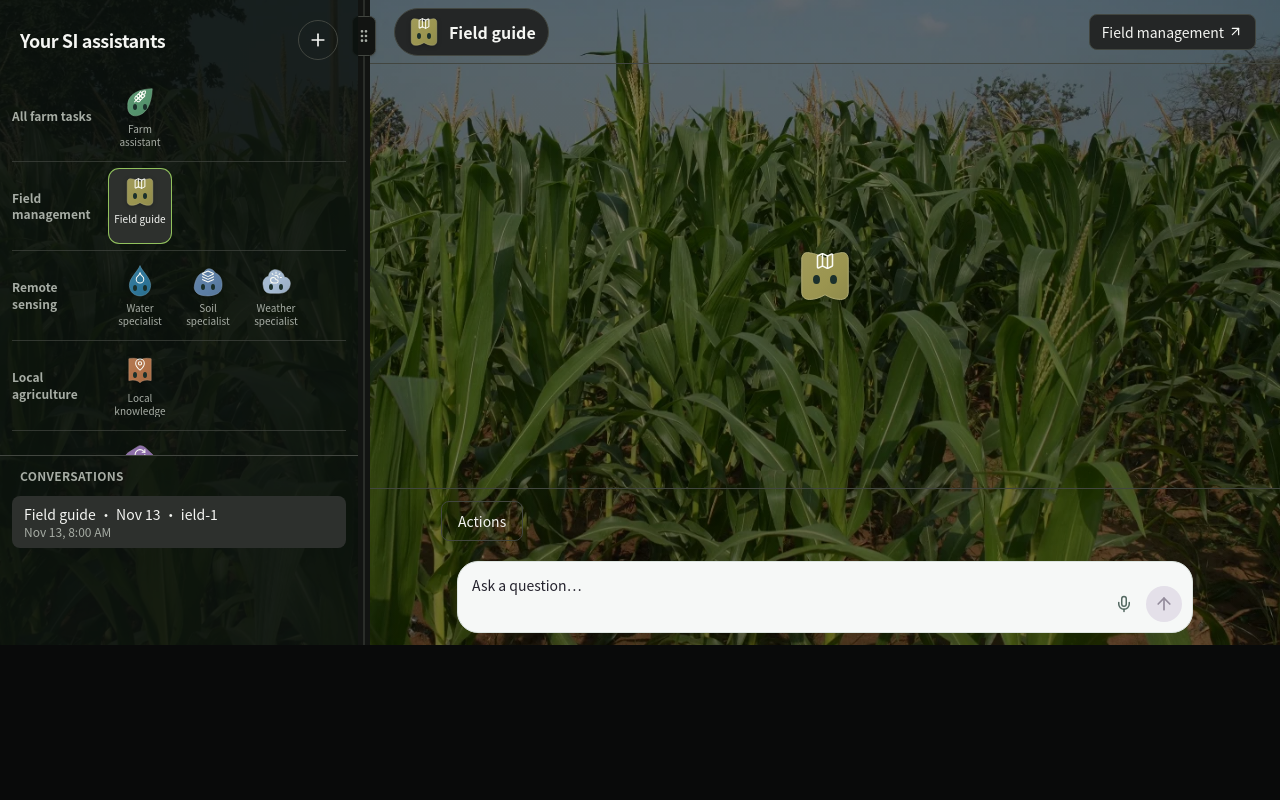
Test case: restores an existing conversation and submits its message to that conversation
Type "How is my field?" into the text box named "Message Field guide".
click(785, 598); type("How is my field?")  # box [472,574,1098,622]
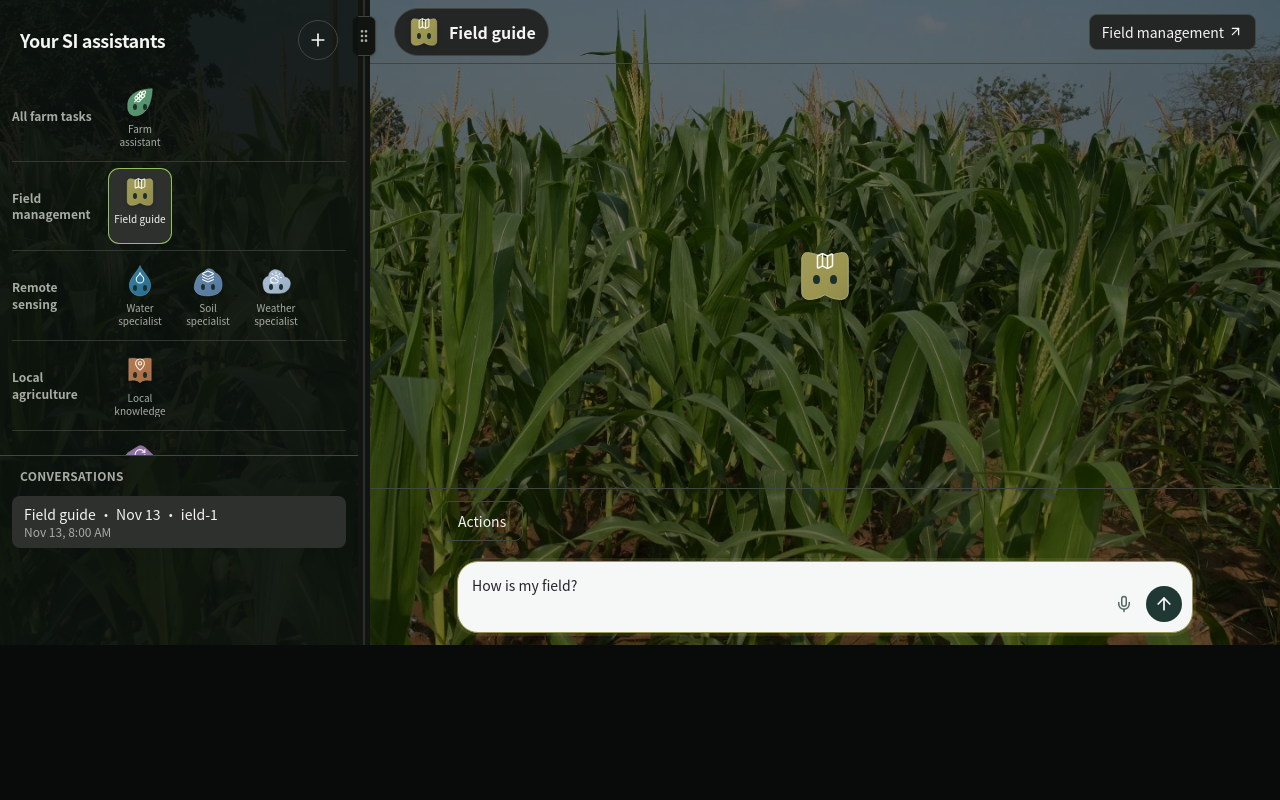
Click the button named "Send message".
click(1164, 604)  # box [1146,586,1182,622]
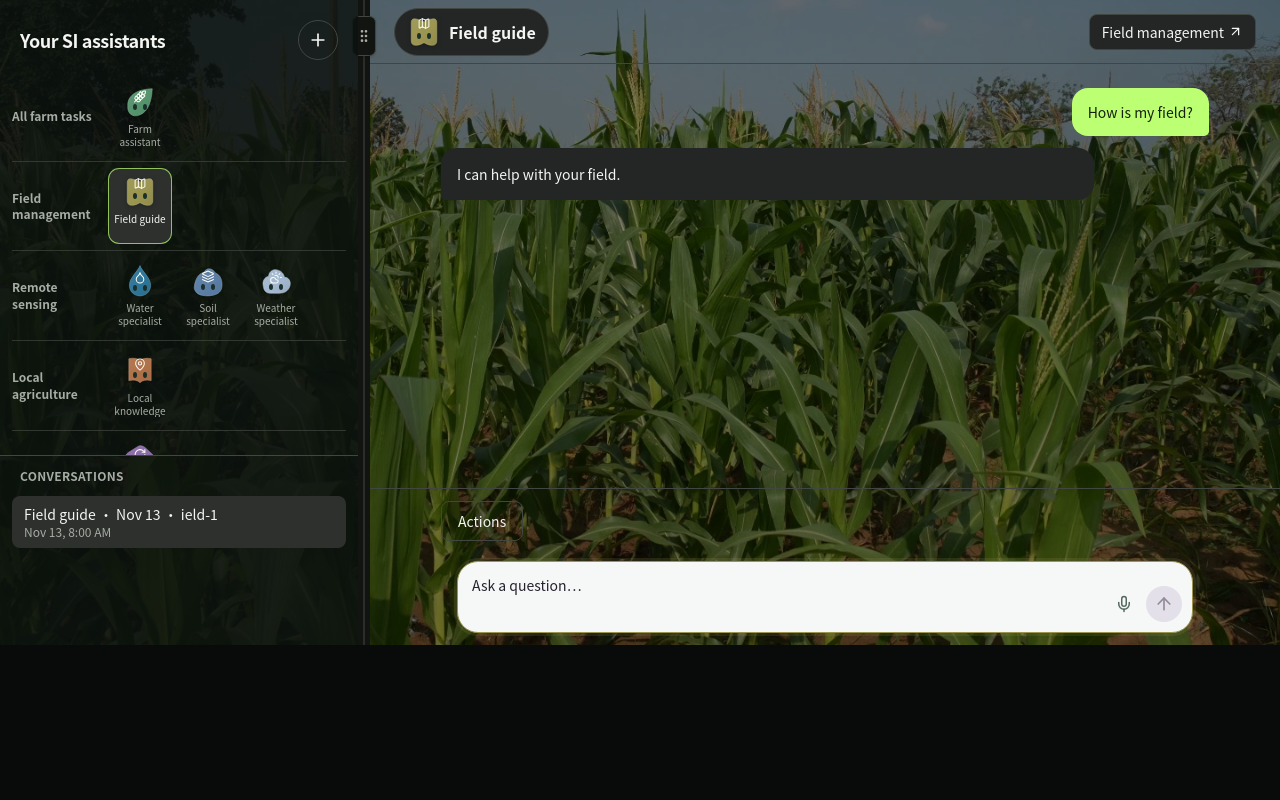
Now the text "I can help with your field." is shown, box [457,164,620,184]
